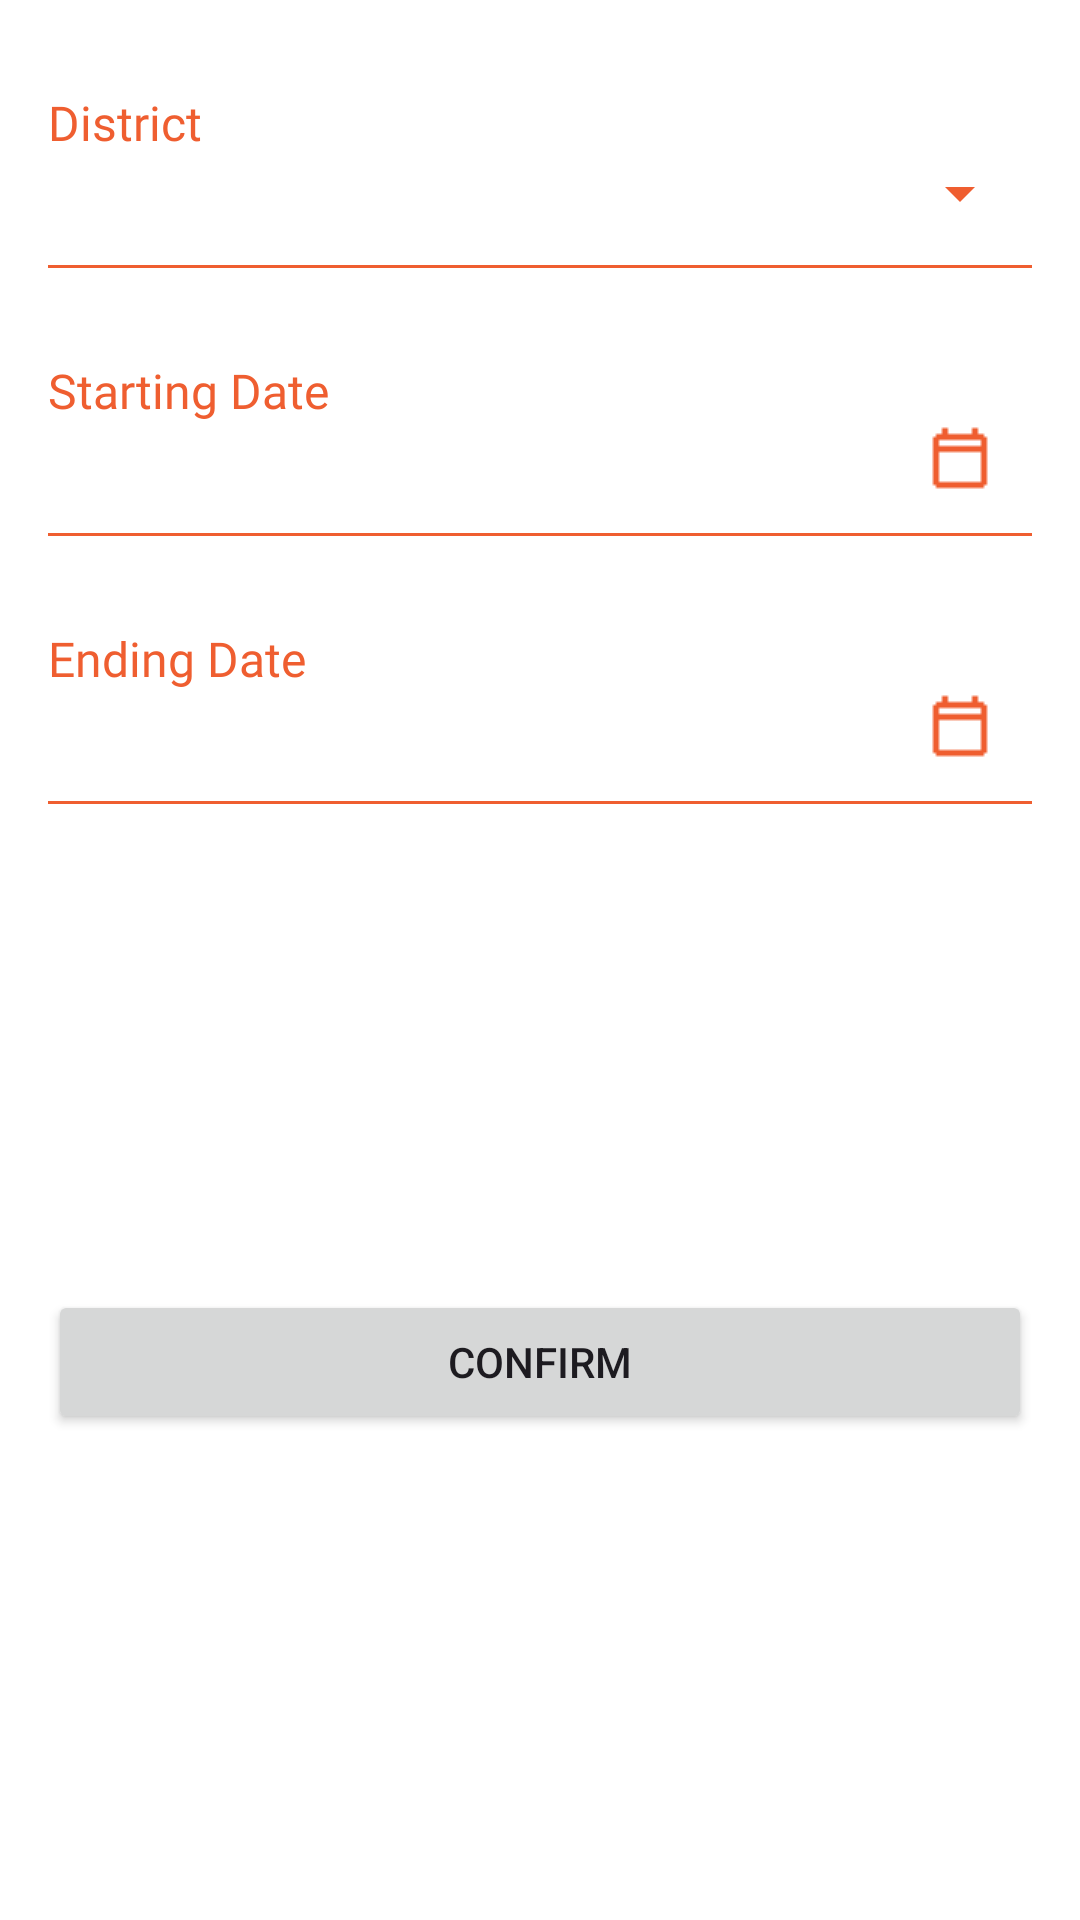

Locate icon controls on the screen. Image size 1080px×1920px, boxes as (x1, y1, x2, y2).
Calendar: (932, 427, 988, 489), (932, 695, 988, 757)
